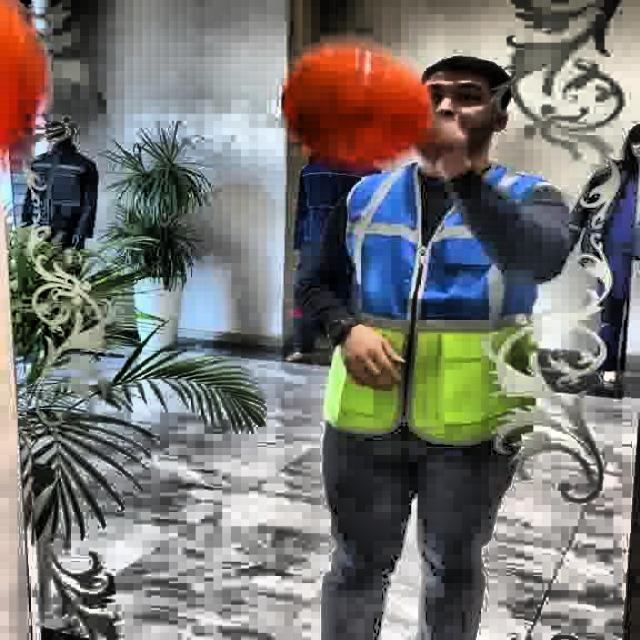safety_helmet: (282, 43, 435, 165)
safety_jacket: (322, 162, 552, 448)
